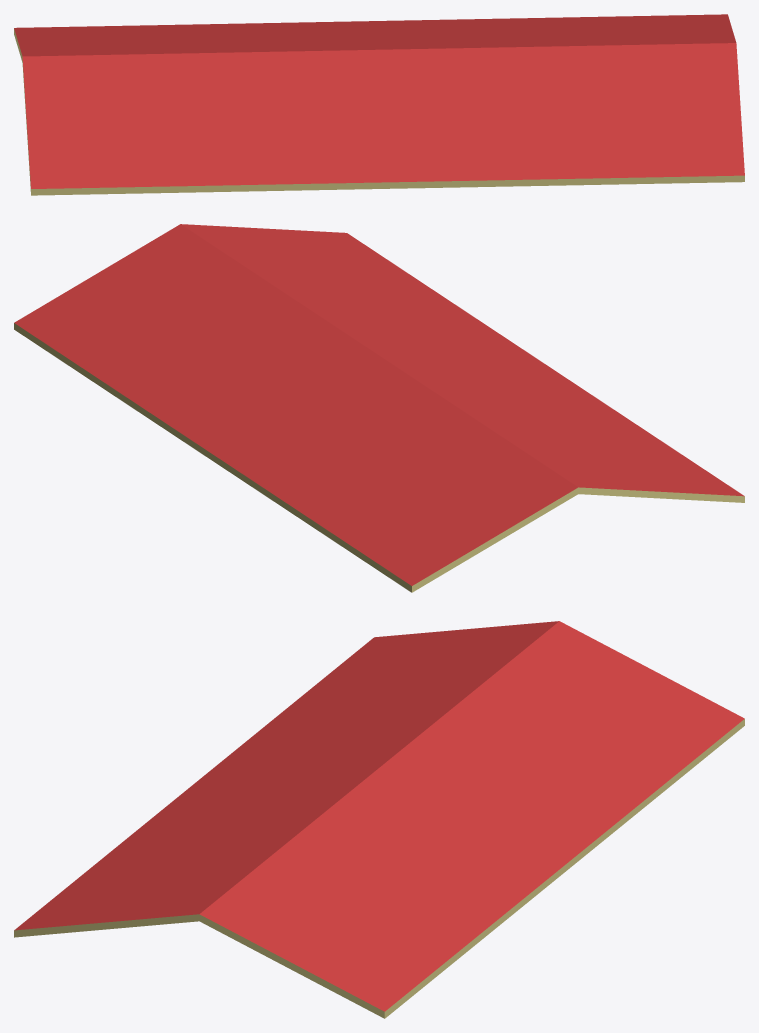
The picture shows the model from 3 angles, top to bottom: view 1: azimuth 30°, elevation 25°; view 2: azimuth 150°, elevation 25°; view 3: azimuth 270°, elevation 25°; orthographic projection. The views are drawn at different scales.
Bounding box in the file's own units: 11.31 × 9.33 × 0.901.
